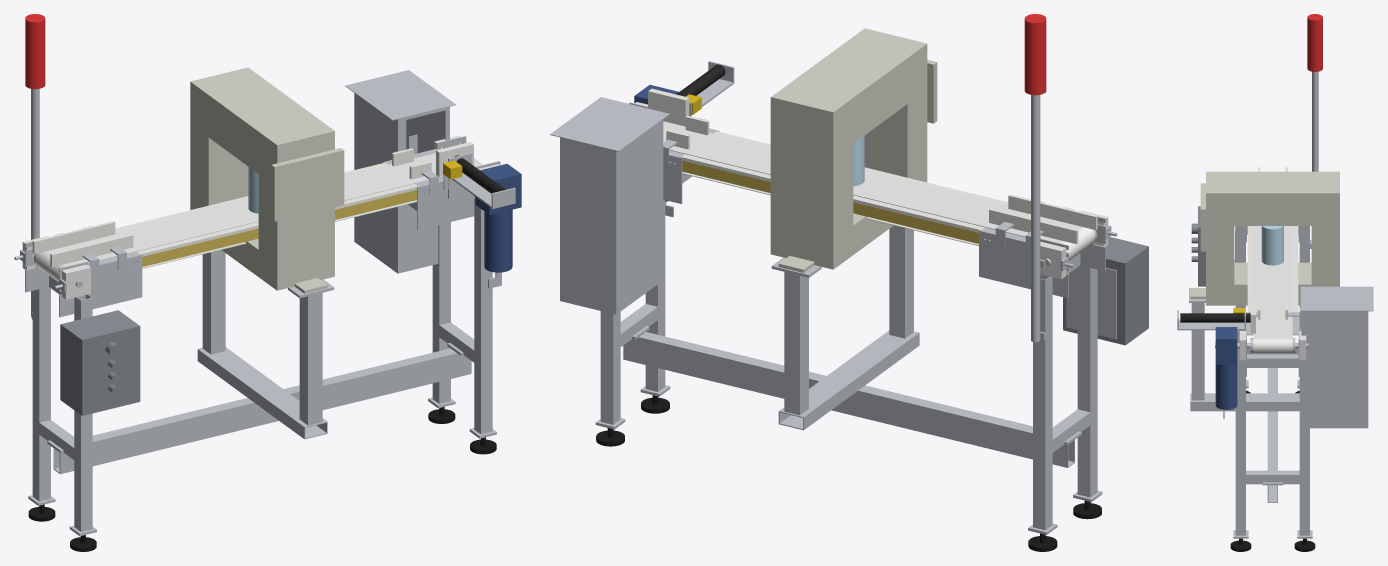
File: P1-406-ASM.glb
3 views of the same model, side by side, from view 1: azimuth 30°, elevation 25°; view 2: azimuth 150°, elevation 25°; view 3: azimuth 270°, elevation 25° (orthographic). The views are drawn at different scales.
Visible parts, largest first — view 1: P1-418, P1-406-303, P1-406-101, P1-406-103, P1-406-102, P1-406-104, P1-419, P1-459, P1-406-207, P1-420, P1-406-204, P1-406-206 (+6 smaller); view 2: P1-418, P1-406-303, P1-406-101, P1-406-103, P1-406-104, P1-419, P1-406-102, P1-459, P1-406-207, P1-406-403, P1-406-204, P1-406-206 (+4 smaller); view 3: P1-418, P1-406-303, P1-406-102, P1-419, P1-406-104, P1-420, P1-406-103, P1-406-206, P1-406-101, P1-461, JAR, P1-406-403 (+4 smaller).
Boxes of the visible parts, x1,y1,x2,y2 form: P1-418: (190, 67, 344, 293); P1-406-303: (345, 70, 455, 273); P1-406-101: (20, 241, 142, 536); P1-406-103: (47, 343, 471, 474); P1-406-102: (383, 136, 500, 438); P1-406-104: (197, 250, 334, 439); P1-419: (22, 135, 499, 299); P1-459: (60, 310, 140, 415); P1-406-207: (32, 148, 431, 266); P1-420: (475, 163, 521, 272); P1-406-204: (142, 190, 416, 266); P1-406-206: (115, 162, 417, 256); P1-418: (770, 28, 937, 272); P1-406-303: (550, 97, 669, 314); P1-406-101: (979, 216, 1111, 534); P1-406-103: (623, 326, 1081, 467); P1-406-104: (771, 225, 919, 430); P1-419: (634, 102, 1108, 279); P1-406-102: (595, 102, 719, 429); P1-459: (1063, 237, 1148, 345); P1-406-207: (666, 115, 1097, 243); P1-406-403: (1031, 95, 1045, 342); P1-406-204: (682, 160, 978, 243); P1-406-206: (681, 131, 1008, 232); P1-418: (1190, 171, 1339, 305); P1-406-303: (1300, 286, 1373, 428); P1-406-102: (1233, 316, 1312, 538); P1-419: (1239, 226, 1306, 360); P1-406-104: (1189, 288, 1299, 411); P1-420: (1215, 327, 1237, 409); P1-406-103: (1262, 368, 1283, 502); P1-406-206: (1247, 226, 1298, 312); P1-406-101: (1235, 226, 1309, 388); P1-461: (1307, 14, 1322, 71); JAR: (1261, 226, 1283, 265); P1-406-403: (1310, 71, 1318, 248).
Bounding box in the file's own units: 1555 × 1625 × 760.
